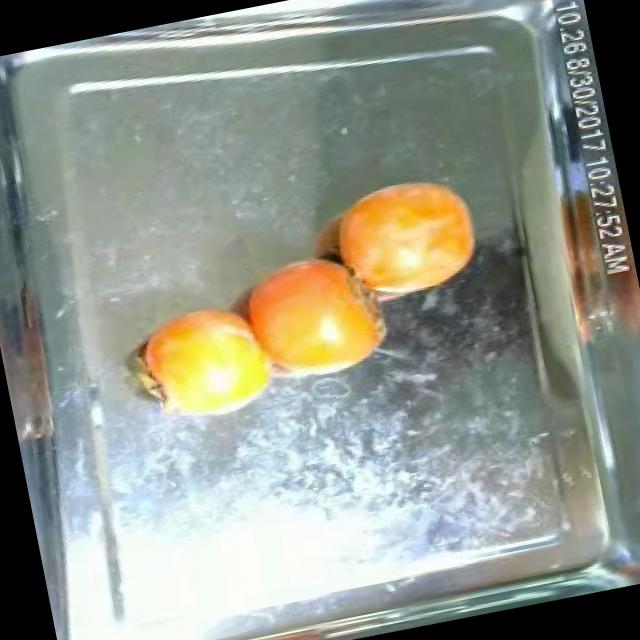Fruit: (221, 232, 411, 401), (313, 160, 495, 316), (120, 287, 294, 438)
